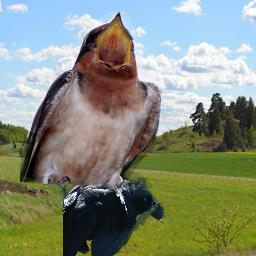Crow: (63, 177, 165, 256)
Swallow: (20, 11, 162, 199)
